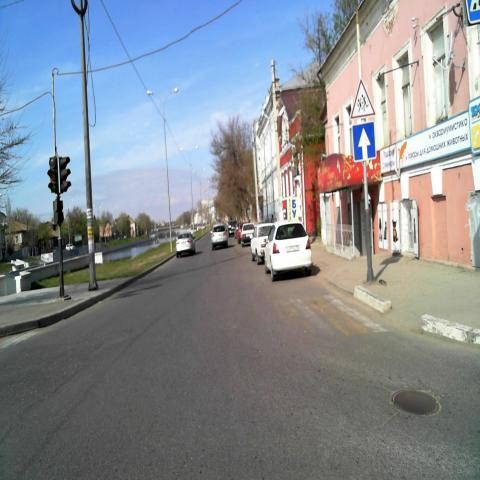1_23: (349, 80, 375, 118)
5_5: (352, 122, 376, 162)
